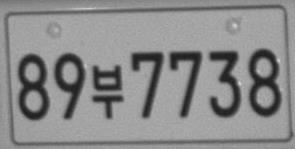3: (207, 49, 241, 118)
7: (130, 51, 165, 119), (168, 50, 203, 118)
8: (247, 47, 282, 117), (17, 51, 50, 121)
9: (53, 51, 86, 119)
부: (91, 64, 125, 119)
